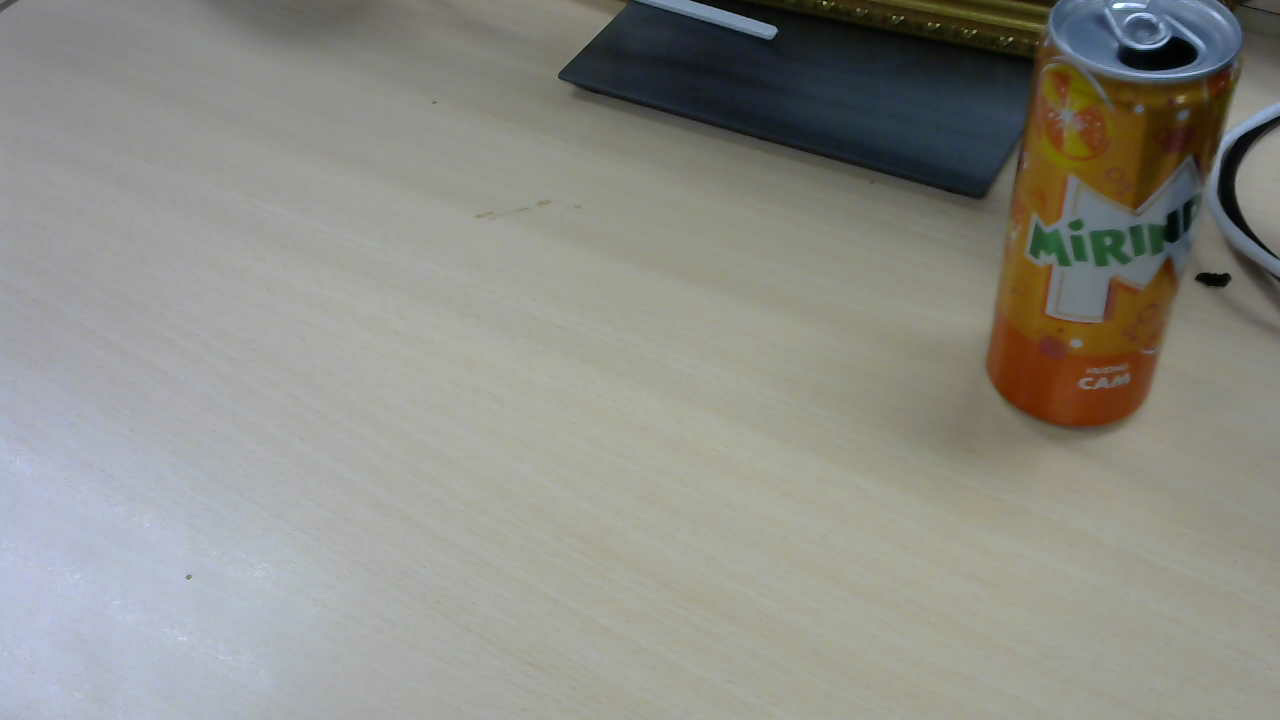Mirinda: (988, 4, 1247, 440)
